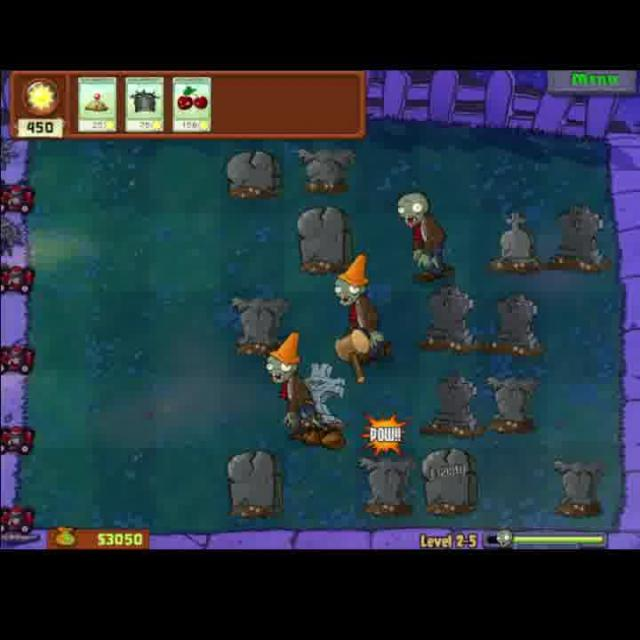coins: (327, 249, 389, 387), (263, 327, 321, 445), (392, 188, 452, 284)
